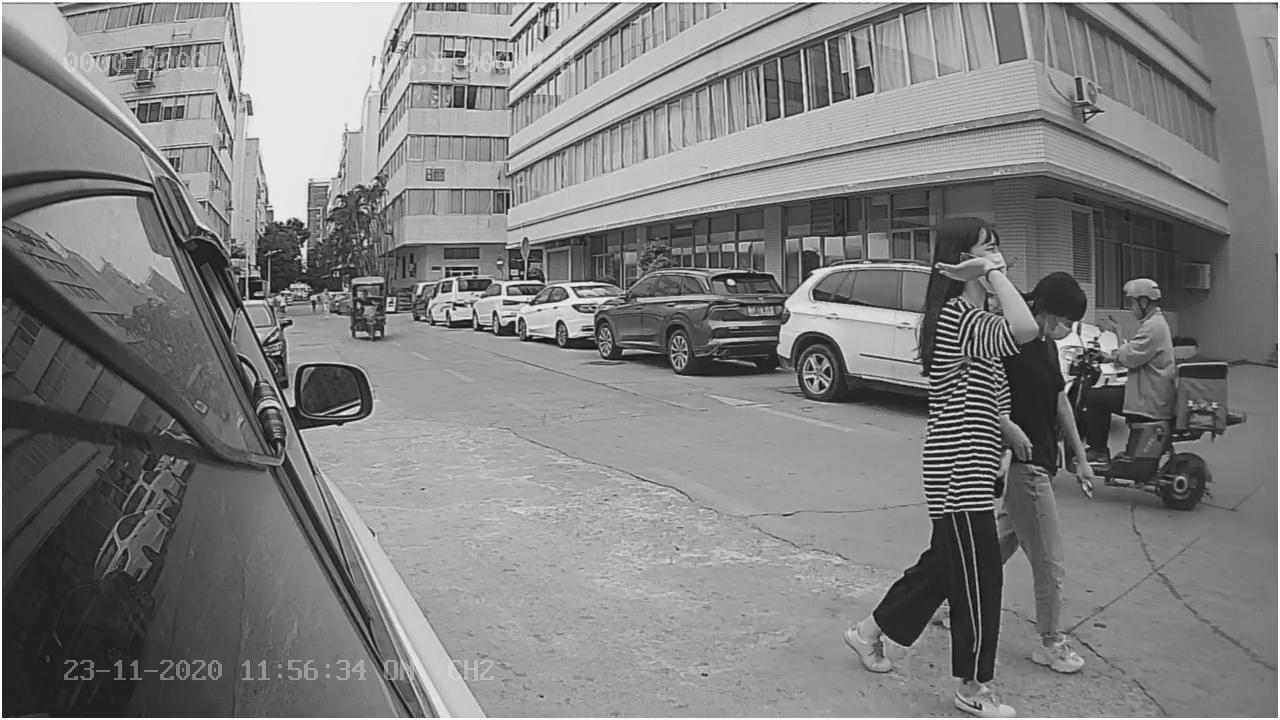person: (864, 217, 1028, 710), (1117, 275, 1173, 417)
